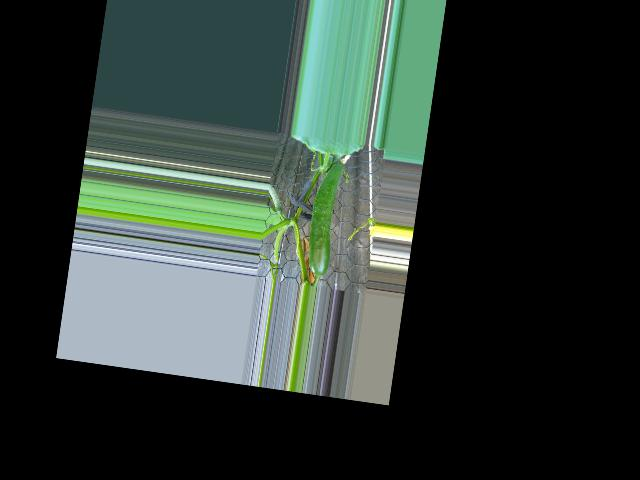cucumber: (303, 160, 344, 276)
